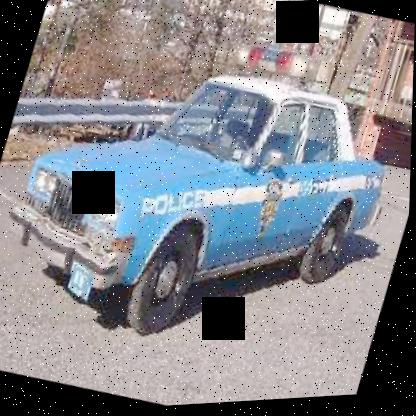emergency: (0, 0, 415, 399)
